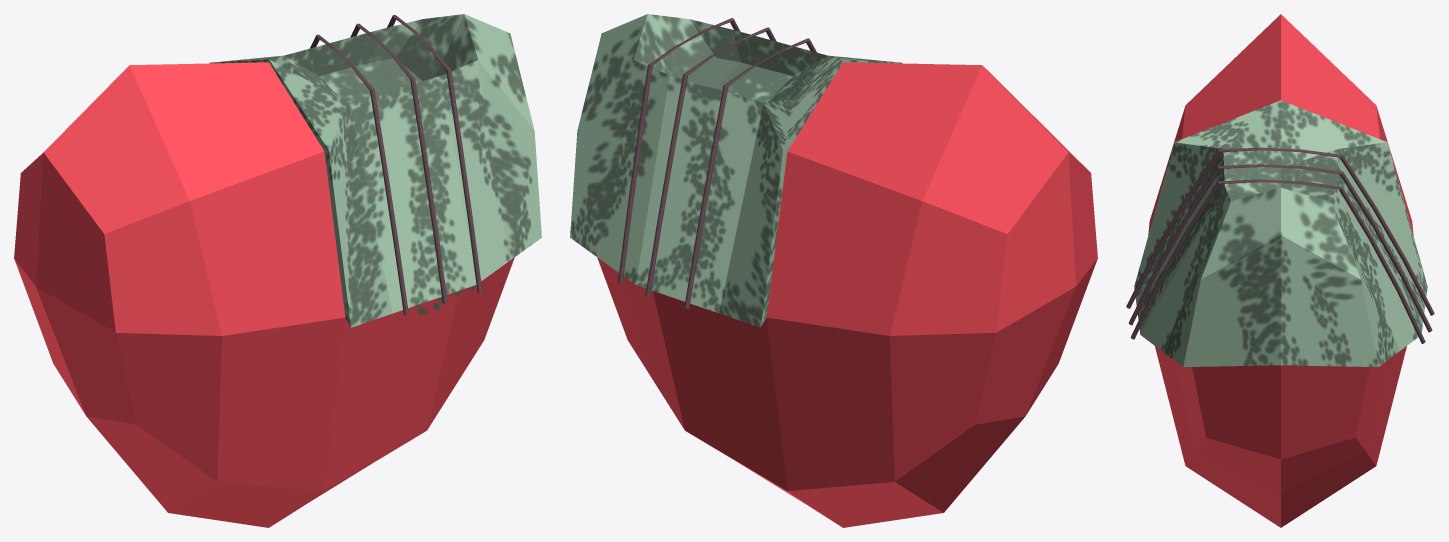
The model's file is StringedSonataHeart.fbx.
The picture shows the model from 3 angles, left to right: view 1: azimuth 30°, elevation 25°; view 2: azimuth 150°, elevation 25°; view 3: azimuth 270°, elevation 25°; orthographic projection. The views are drawn at different scales.
Visible parts, largest first — view 1: Cube; view 2: Cube; view 3: Cube.
Boxes of the visible parts, x1=… form: Cube: x1=14, y1=14, x2=541, y2=527; Cube: x1=570, y1=14, x2=1097, y2=527; Cube: x1=1126, y1=14, x2=1434, y2=527.
Size of the model in its own units: 236 by 232 by 146.
